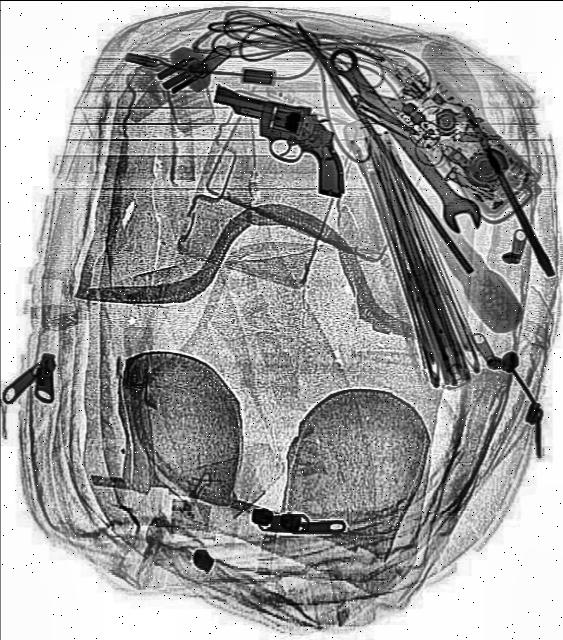Gun: (198, 90, 352, 198)
Wrench: (319, 42, 487, 244)
